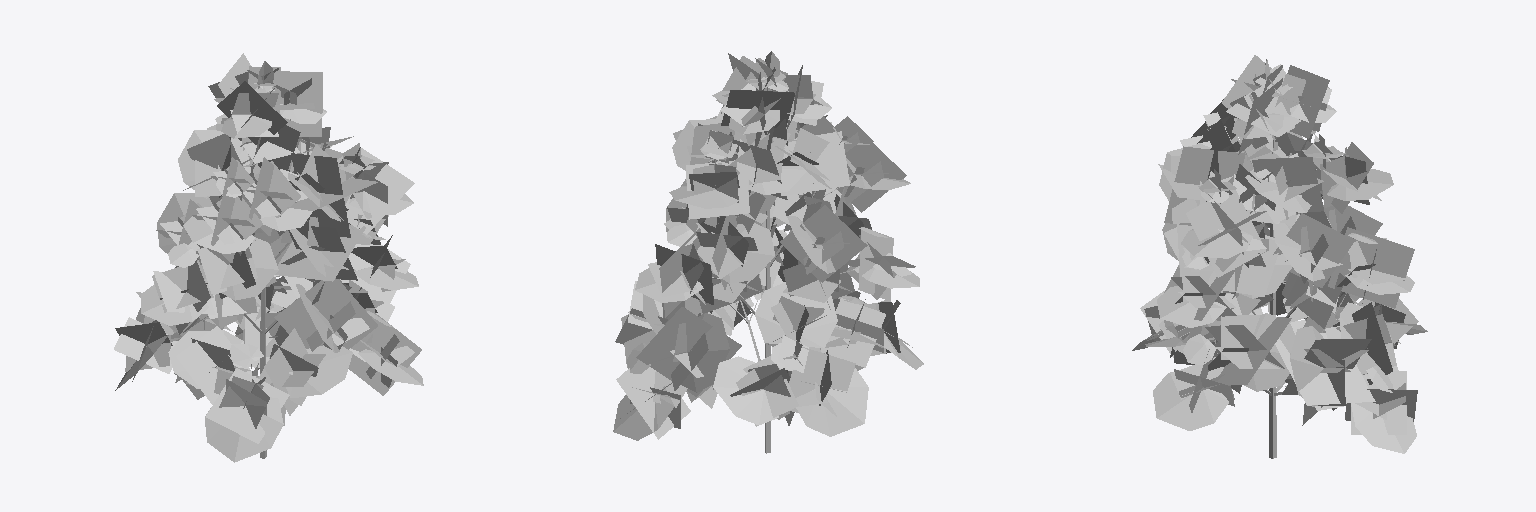
Rendered from bud.obj.
3 views of the same model, side by side, from view 1: azimuth 30°, elevation 25°; view 2: azimuth 150°, elevation 25°; view 3: azimuth 270°, elevation 25° (orthographic).
Visible parts, largest first — view 1: Cannabis_flowering:Cannabis_flowering; view 2: Cannabis_flowering:Cannabis_flowering; view 3: Cannabis_flowering:Cannabis_flowering.
Boxes of the visible parts, box(x1,y1,x2,y2) form: Cannabis_flowering:Cannabis_flowering: box(114, 53, 423, 462); Cannabis_flowering:Cannabis_flowering: box(613, 51, 923, 453); Cannabis_flowering:Cannabis_flowering: box(1132, 55, 1427, 458).
Bounding box in the file's own units: 0.7908 × 1.13 × 0.7606.